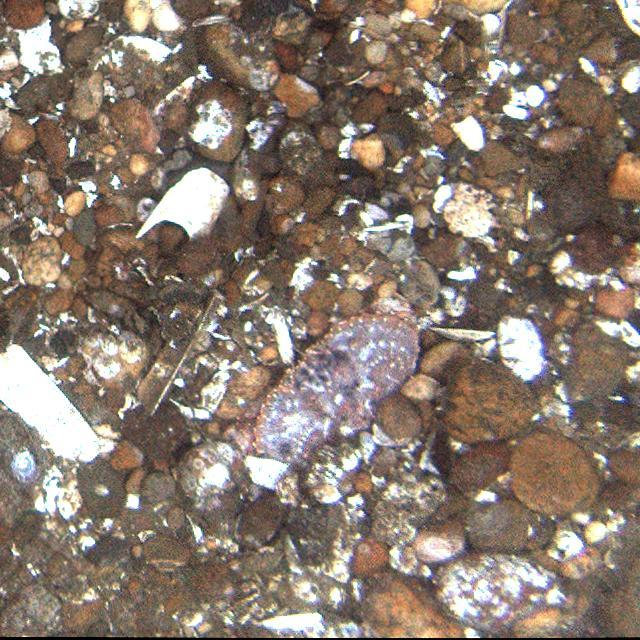crab: (233, 310, 423, 452)
